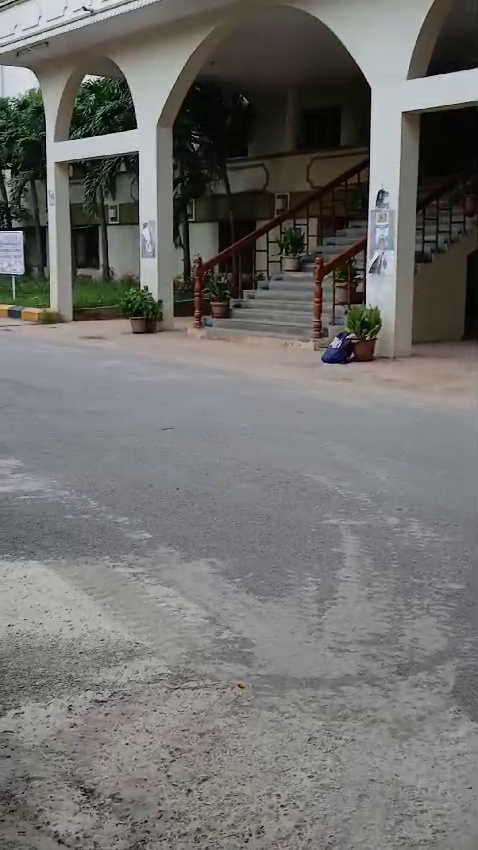bag: (319, 326, 350, 365)
